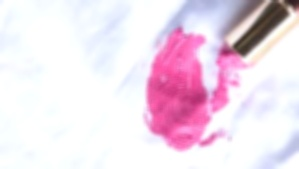lipstick: (137, 32, 237, 147)
